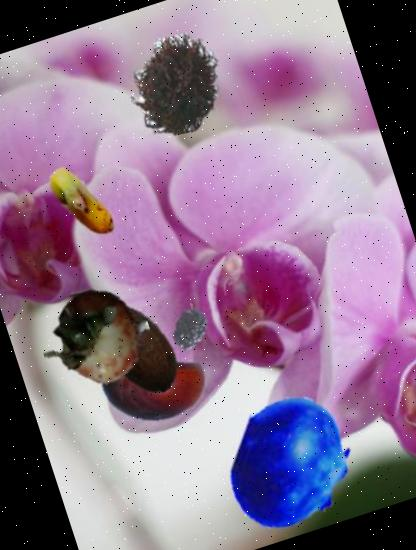Banana: (27, 148, 136, 256)
Chestnut: (84, 322, 220, 458)
Huckleberry: (205, 377, 378, 550)
Mulberry: (162, 296, 228, 363)
Nut: (69, 275, 206, 412)
Rambutan: (113, 22, 238, 148)
Strawberry: (27, 268, 166, 407)
